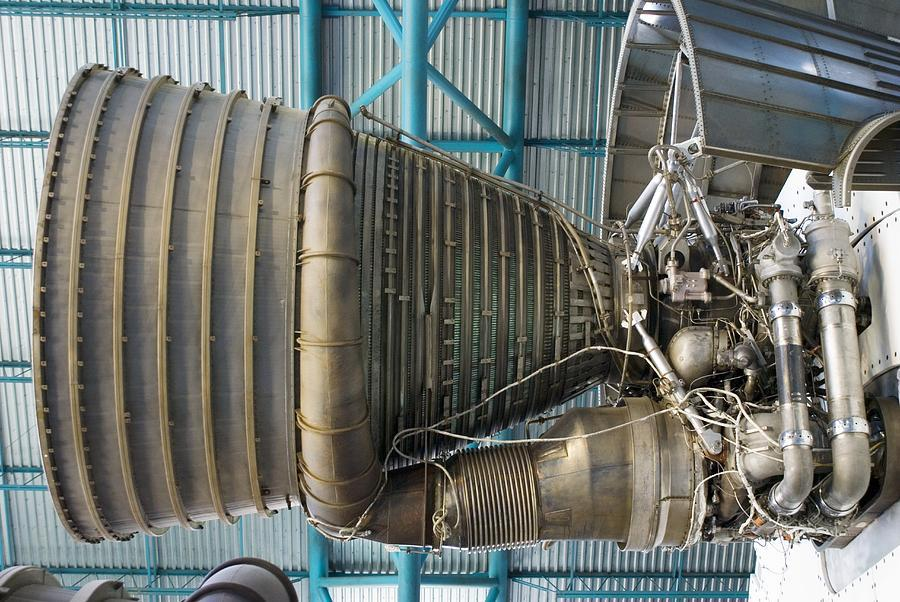body: (746, 153, 900, 602)
thruster: (36, 57, 625, 547)
